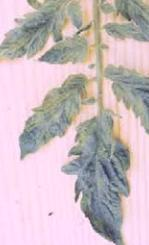Tomato leaf mosaic virus: (71, 109, 134, 245), (0, 0, 84, 64), (103, 66, 149, 154), (108, 0, 149, 44), (39, 36, 93, 66)
